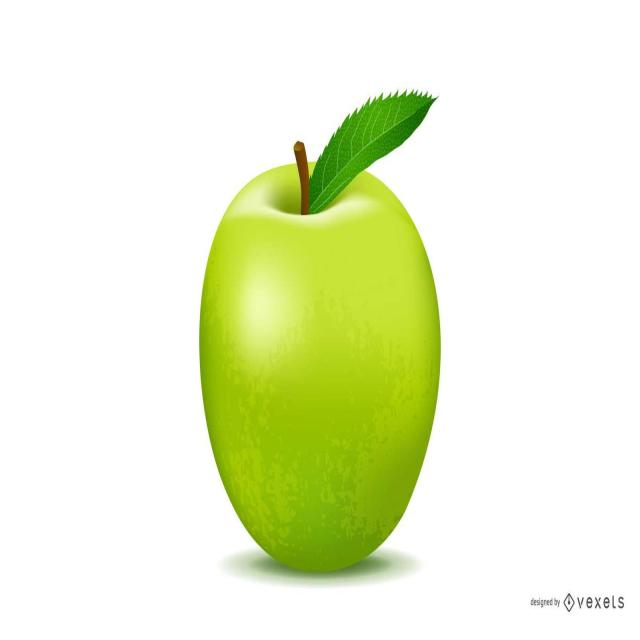manzana: (161, 122, 467, 598)
